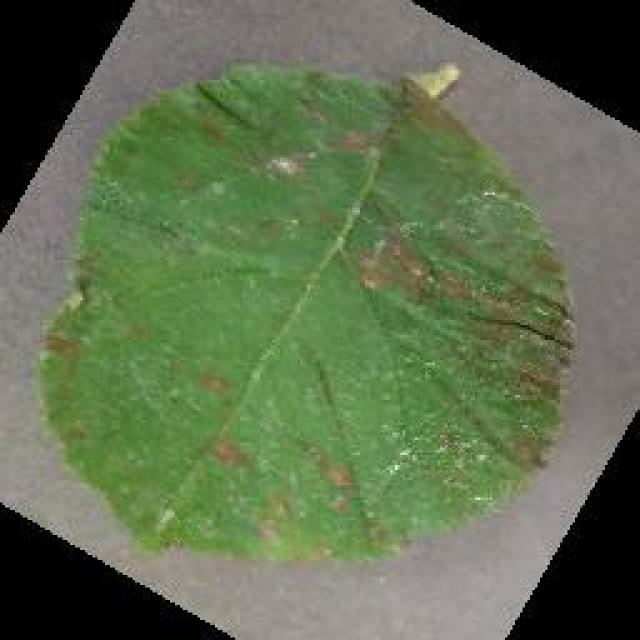apple scab disease: (35, 55, 577, 565)
